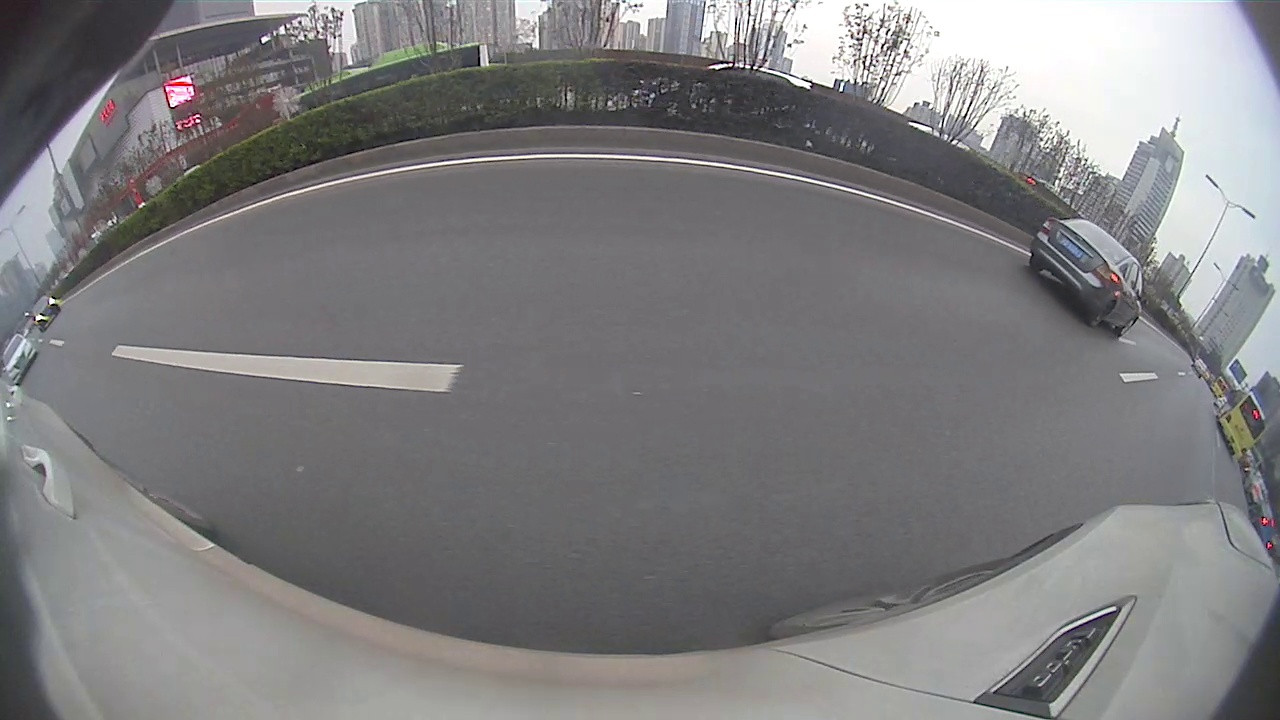bus: (1217, 385, 1268, 456)
car: (1031, 218, 1143, 337)
front: (1119, 320, 1135, 337)
rear: (1086, 299, 1116, 329)
